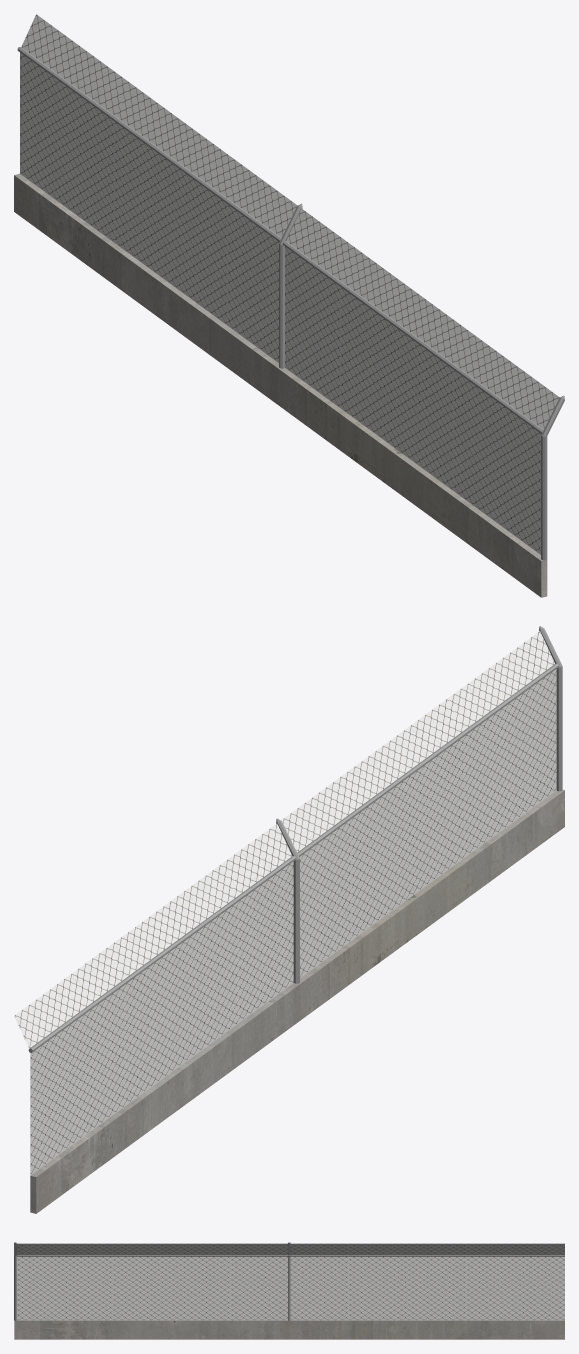
The model's file is Fence__X1_.fbx.
The picture shows the model from 3 angles, top to bottom: view 1: azimuth 30°, elevation 25°; view 2: azimuth 150°, elevation 25°; view 3: azimuth 270°, elevation 25°; orthographic projection. The views are drawn at different scales.
Parts seen in each view (by area): view 1: polySurface4; view 2: polySurface4; view 3: polySurface4.
Part boxes in pixels (x1,y1,x2,y2): polySurface4: (14, 14, 564, 597); polySurface4: (14, 626, 564, 1213); polySurface4: (14, 1242, 564, 1339).
Size of the model in its own units: 0.6998 by 5.33 by 26.09.
